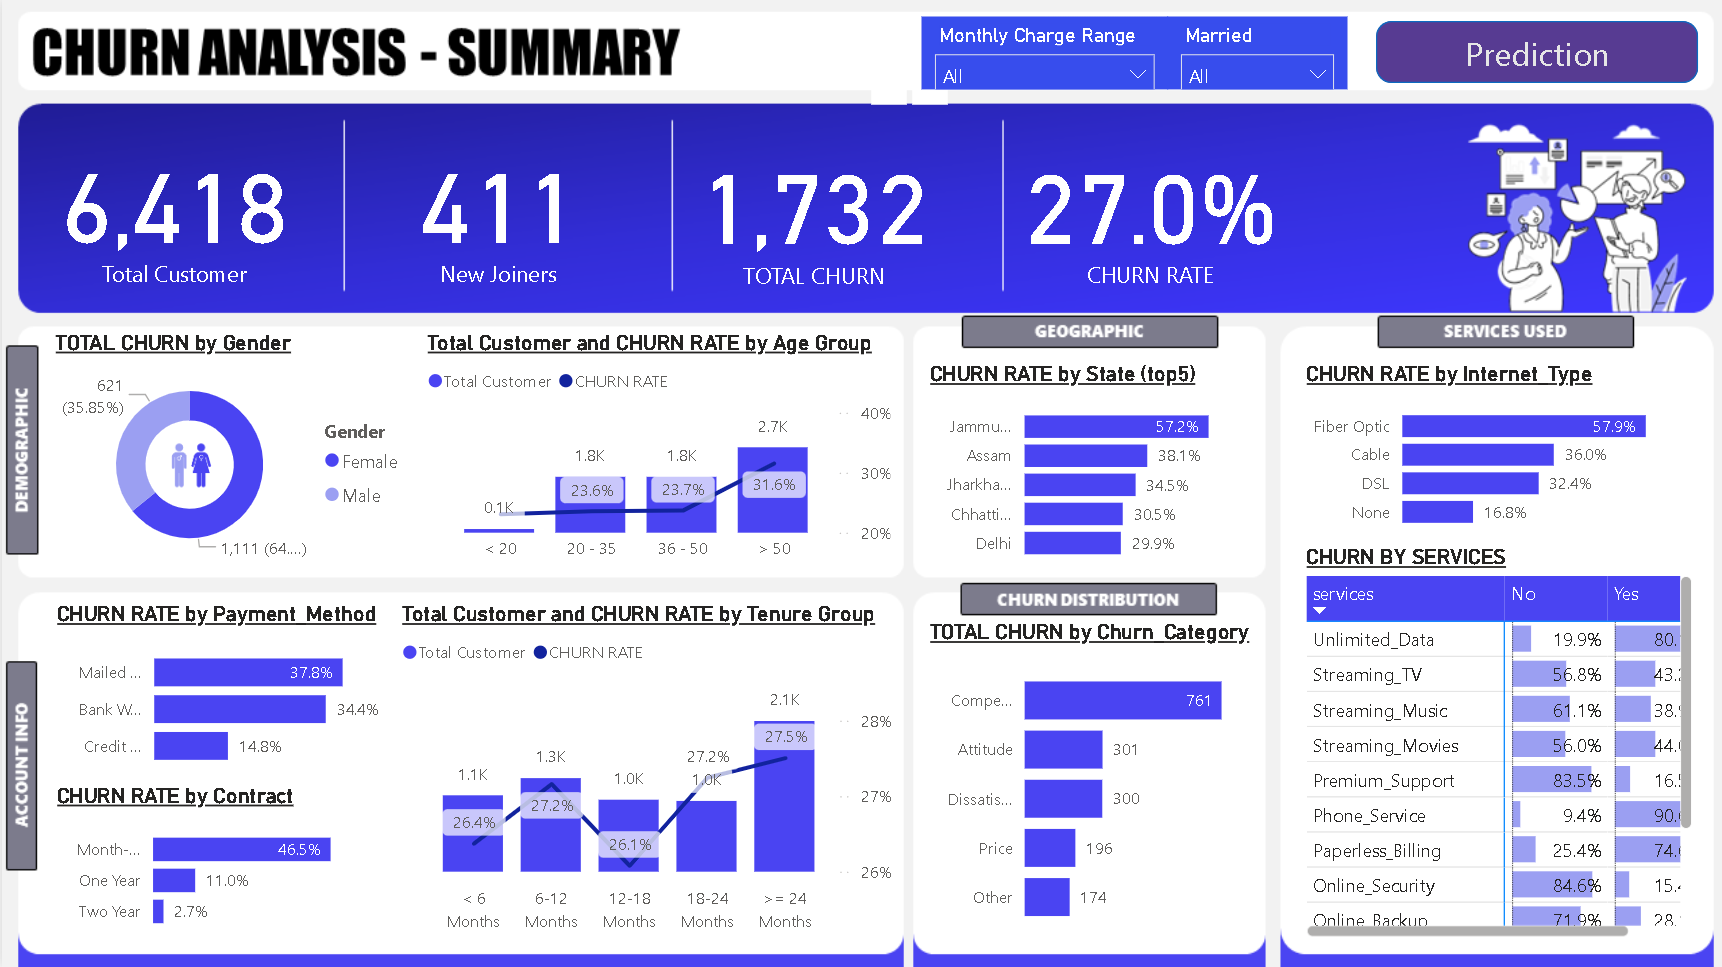

The page's visual inventory and layout, read from the dashboard file:
{"tool":"powerbi","page":{"name":"summary","canvas":[1280,720],"ordinal":0},"visuals":[{"type":"image","box":[112.9,321.3,52.5,55.7],"z":0},{"type":"donutChart","fields":{"Category":["prod_Churn.Gender"],"Y":["tbi_measure.TOTAL CHURN"]},"box":[35,246.5,275.2,181.3],"z":1000},{"type":"card","fields":{"Values":["tbi_measure.New Joiners"]},"box":[279.7,81.3,175.7,151.2],"z":2000},{"type":"card","fields":{"Values":["tbi_measure.Total Customer"]},"box":[20.8,81.3,213.5,151.2],"z":3000},{"type":"card","fields":{"Values":["tbi_measure.TOTAL CHURN"]},"box":[500.8,81.3,200.3,153.1],"z":4000},{"type":"card","fields":{"Values":["tbi_measure.CHURN RATE"]},"box":[746.5,71.8,207.9,170.1],"z":5000},{"type":"lineStackedColumnComboChart","fields":{"Category":["map_AgeGrp.Age Group"],"Y":["tbi_measure.Total Customer"],"Y2":["tbi_measure.CHURN RATE"]},"box":[310.2,246.5,353.1,181.3],"z":6000},{"type":"clusteredBarChart","fields":{"Category":["prod_Churn.Payment_Method"],"Y":["tbi_measure.CHURN RATE"]},"box":[35.9,447.9,255.1,134.2],"z":7000},{"type":"clusteredBarChart","fields":{"Category":["prod_Churn.Contract"],"Y":["tbi_measure.CHURN RATE"]},"box":[35.9,582.1,251.3,119.1],"z":8000},{"type":"slicer","fields":{"Values":["prod_Churn.Married"]},"box":[863.7,14.3,133.6,54.1],"z":9000},{"type":"lineStackedColumnComboChart","fields":{"Category":["map_TenureGrp.Tenure Group"],"Y":["tbi_measure.Total Customer"],"Y2":["tbi_measure.CHURN RATE"]},"box":[291,447.9,372.3,253.2],"z":10000},{"type":"clusteredBarChart","title":"CHURN RATE by State (top5)","fields":{"Category":["prod_Churn.State"],"Y":["tbi_measure.CHURN RATE"]},"box":[682.2,270.2,249.5,156.9],"z":11000},{"type":"clusteredBarChart","fields":{"Category":["prod_Churn.Churn_Category"],"Y":["tbi_measure.TOTAL CHURN"]},"box":[682.2,461.1,249.5,240],"z":12000},{"type":"pivotTable","title":"CHURN BY SERVICES","fields":{"Rows":["prod_services.services"],"Columns":["prod_services.status"],"Values":["Sum(prod_services.churn status)"]},"box":[960.7,405.6,295.9,295.9],"z":13000},{"type":"slicer","fields":{"Values":["prod_Churn.monthly charge range"]},"box":[680.8,14.3,182.9,54.1],"z":14000},{"type":"clusteredBarChart","fields":{"Category":["prod_Churn.Internet_Type"],"Y":["tbi_measure.CHURN RATE"]},"box":[960.7,270.4,295.9,133.6],"z":15000},{"type":"image","box":[112.9,319.7,54.1,52.5],"z":16000},{"type":"shape","title":"Prediction","box":[1018,17.5,238.6,46.1],"z":17000}]}

Visuals, with their boxes in screenshot pixels (x1, y1, x2, y2), scaled from the page's 1280x720 canvas onto the 1722x967 screenshot:
image: {"left": 152, "top": 432, "right": 223, "bottom": 506}
donutChart - prod_Churn.Gender x tbi_measure.TOTAL CHURN: {"left": 47, "top": 331, "right": 417, "bottom": 575}
card - tbi_measure.New Joiners: {"left": 376, "top": 109, "right": 613, "bottom": 312}
card - tbi_measure.Total Customer: {"left": 28, "top": 109, "right": 315, "bottom": 312}
card - tbi_measure.TOTAL CHURN: {"left": 674, "top": 109, "right": 943, "bottom": 315}
card - tbi_measure.CHURN RATE: {"left": 1004, "top": 96, "right": 1284, "bottom": 325}
lineStackedColumnComboChart - map_AgeGrp.Age Group x tbi_measure.Total Customer: {"left": 417, "top": 331, "right": 892, "bottom": 575}
clusteredBarChart - prod_Churn.Payment_Method x tbi_measure.CHURN RATE: {"left": 48, "top": 602, "right": 391, "bottom": 782}
clusteredBarChart - prod_Churn.Contract x tbi_measure.CHURN RATE: {"left": 48, "top": 782, "right": 386, "bottom": 942}
slicer - prod_Churn.Married: {"left": 1162, "top": 19, "right": 1342, "bottom": 92}
lineStackedColumnComboChart - map_TenureGrp.Tenure Group x tbi_measure.Total Customer: {"left": 391, "top": 602, "right": 892, "bottom": 942}
"CHURN RATE by State (top5)" clusteredBarChart: {"left": 918, "top": 363, "right": 1253, "bottom": 574}
clusteredBarChart - prod_Churn.Churn_Category x tbi_measure.TOTAL CHURN: {"left": 918, "top": 619, "right": 1253, "bottom": 942}
"CHURN BY SERVICES" pivotTable: {"left": 1292, "top": 545, "right": 1691, "bottom": 942}
slicer - prod_Churn.monthly charge range: {"left": 916, "top": 19, "right": 1162, "bottom": 92}
clusteredBarChart - prod_Churn.Internet_Type x tbi_measure.CHURN RATE: {"left": 1292, "top": 363, "right": 1691, "bottom": 543}
image: {"left": 152, "top": 429, "right": 225, "bottom": 500}
"Prediction" shape: {"left": 1370, "top": 24, "right": 1691, "bottom": 85}
